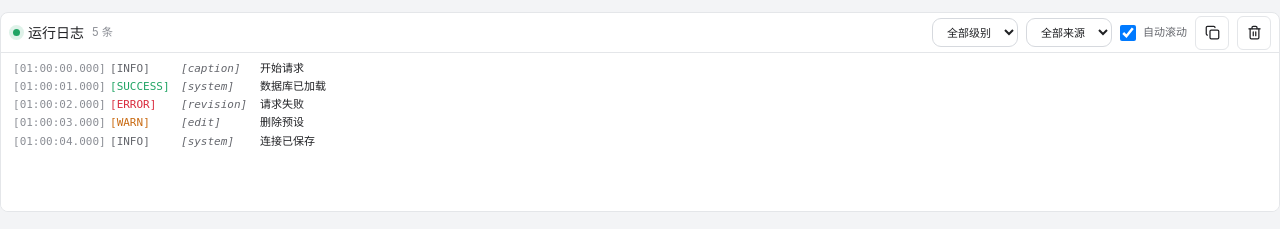
Test: LogPanel › filters by level
Check: the text "开始请求" is shown, box x1=260 y1=62 x2=304 y2=75
Select "错误" in the dropdown named "日志级别" at [975, 32], box x1=932 y1=18 x2=1018 y2=47
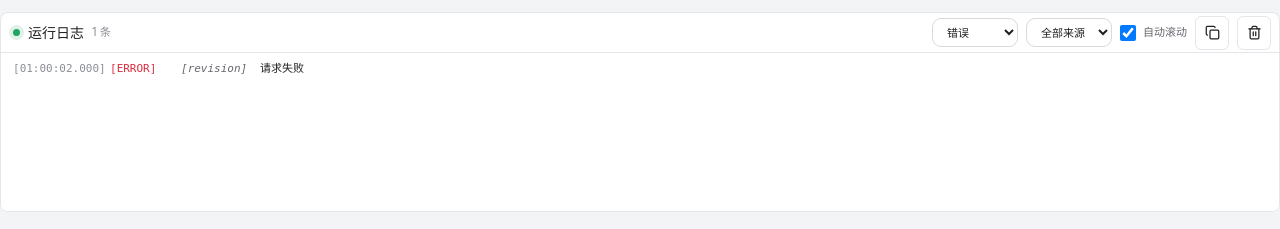
Check: the text "请求失败" is shown, box x1=260 y1=62 x2=304 y2=75
Check: the text "开始请求" is gone
Check: the text "1 条" is shown, box x1=92 y1=24 x2=111 y2=41
